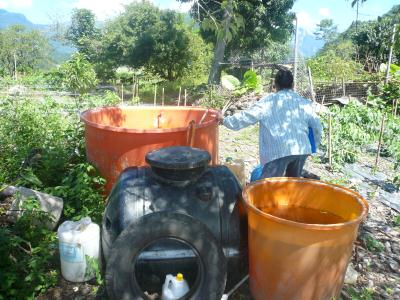bottle: (160, 268, 195, 298)
bucket: (100, 144, 247, 292), (240, 176, 369, 298), (81, 103, 221, 200), (57, 214, 99, 286)
tire: (100, 211, 228, 298)
